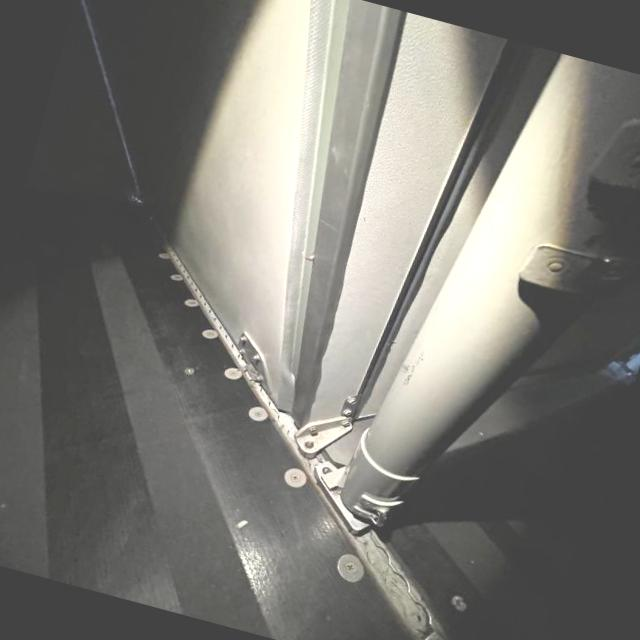dent: (294, 377, 326, 428), (304, 345, 338, 374)
